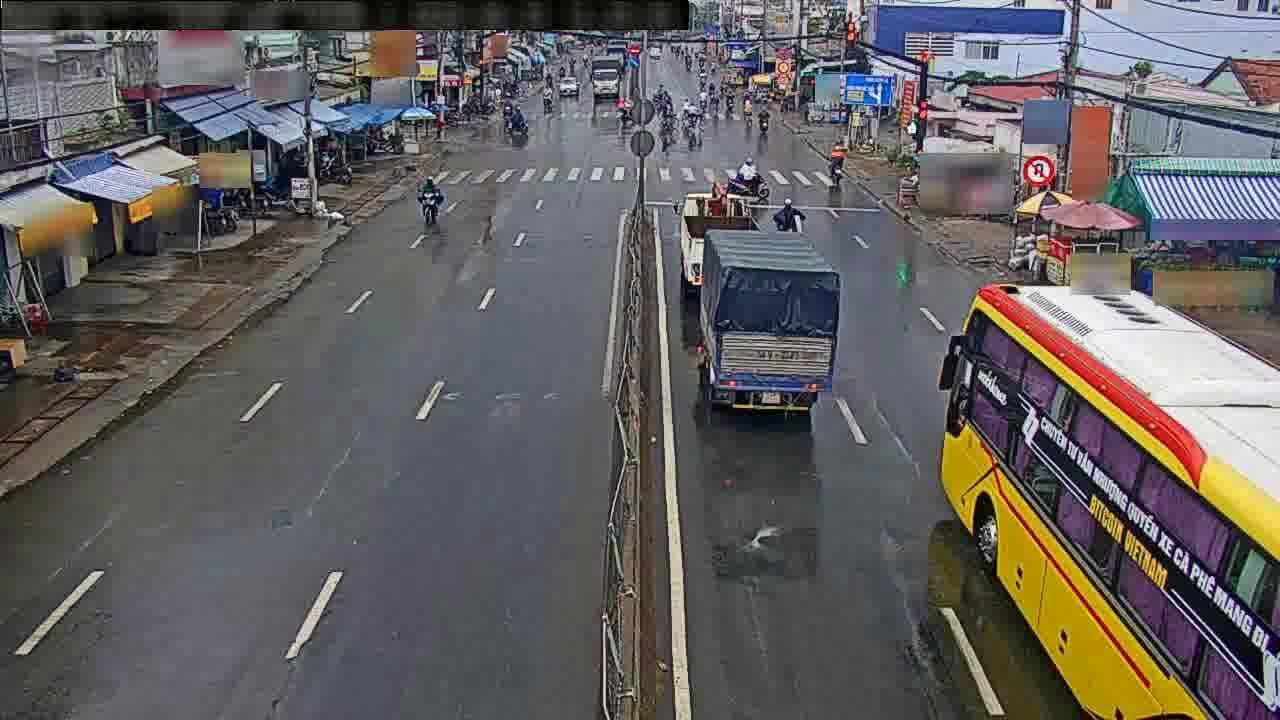14: (936, 263, 1280, 720)
8: (692, 225, 851, 420), (679, 191, 764, 276)
motorbike: (417, 170, 448, 229), (821, 139, 851, 190), (732, 157, 768, 197)
